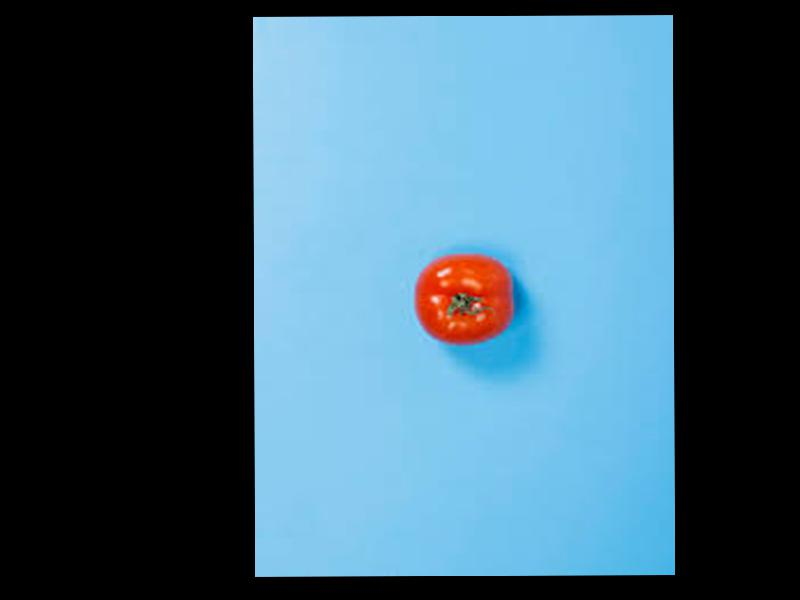Tomato: (412, 254, 513, 348)
